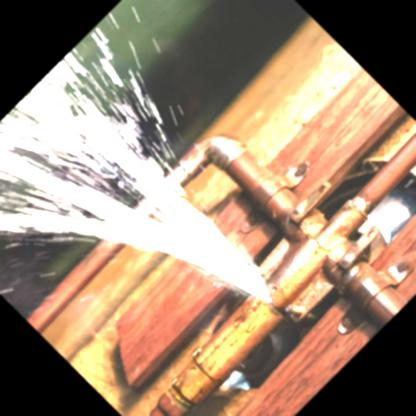burst: (217, 252, 300, 321)
